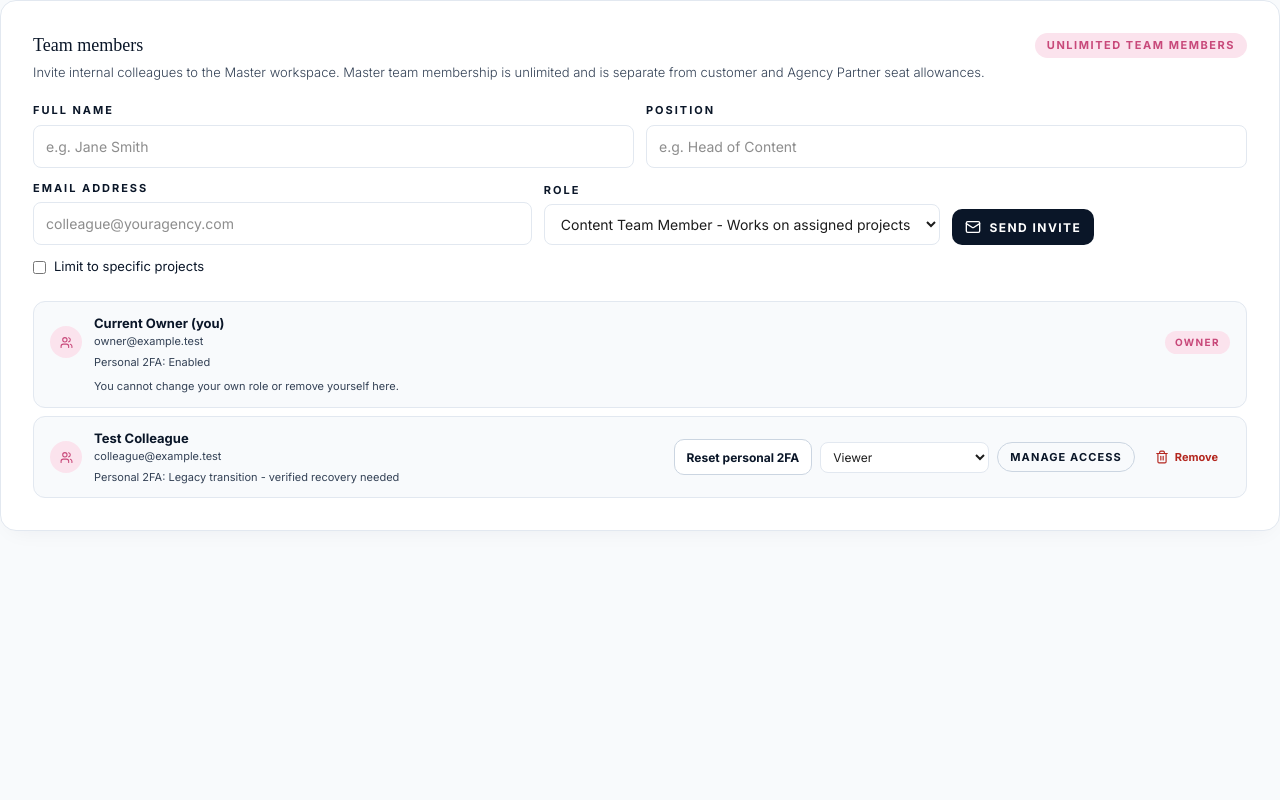
Test case: TeamSection personal MFA recovery › requires both the named email and verified-identity acknowledgement before target-only reset
Click the button with aria-label "Reset two-factor for colleague@example.test" at (743, 457), box [674,439,812,475]
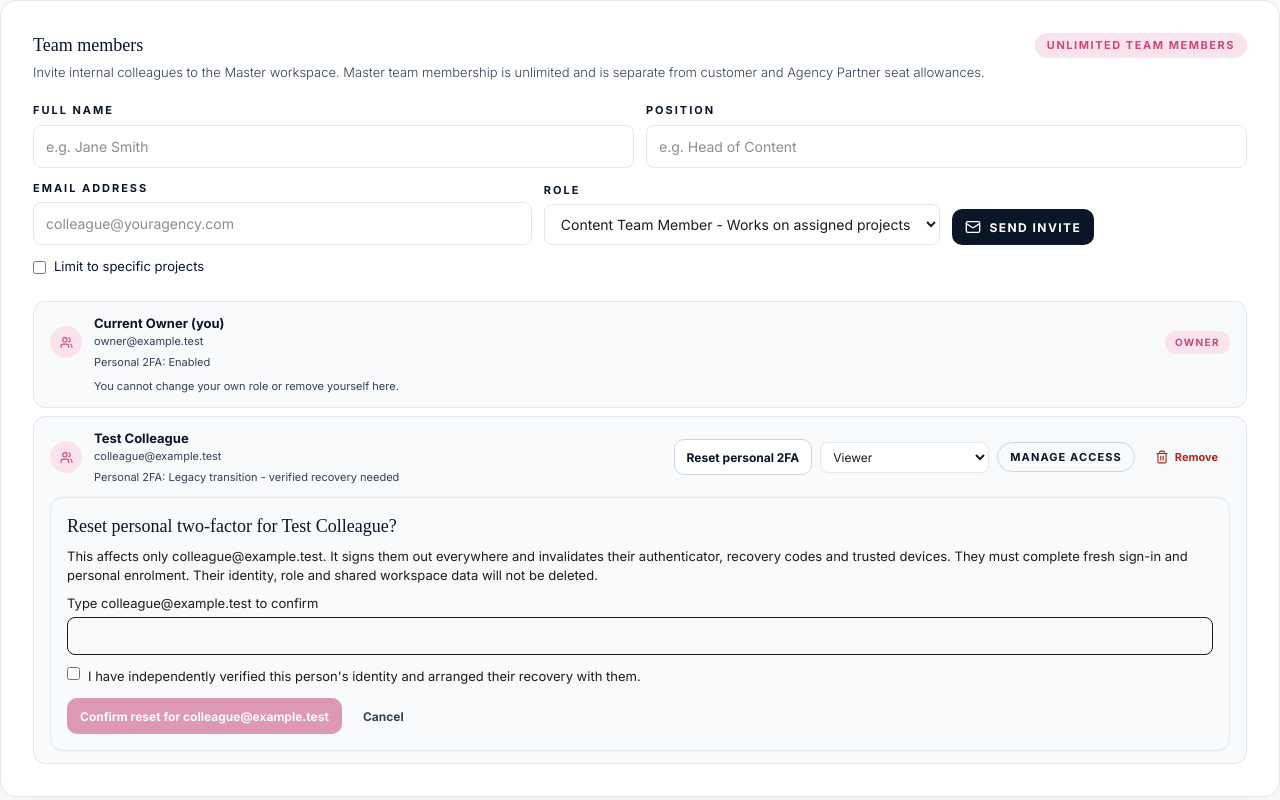
Result: the button "Confirm reset for colleague@example.test" is disabled at [67,698,342,734]
Type "owner@example.test" into the field labelled "Type colleague@example.test to confirm" at (640, 636), box [67,617,1213,655]
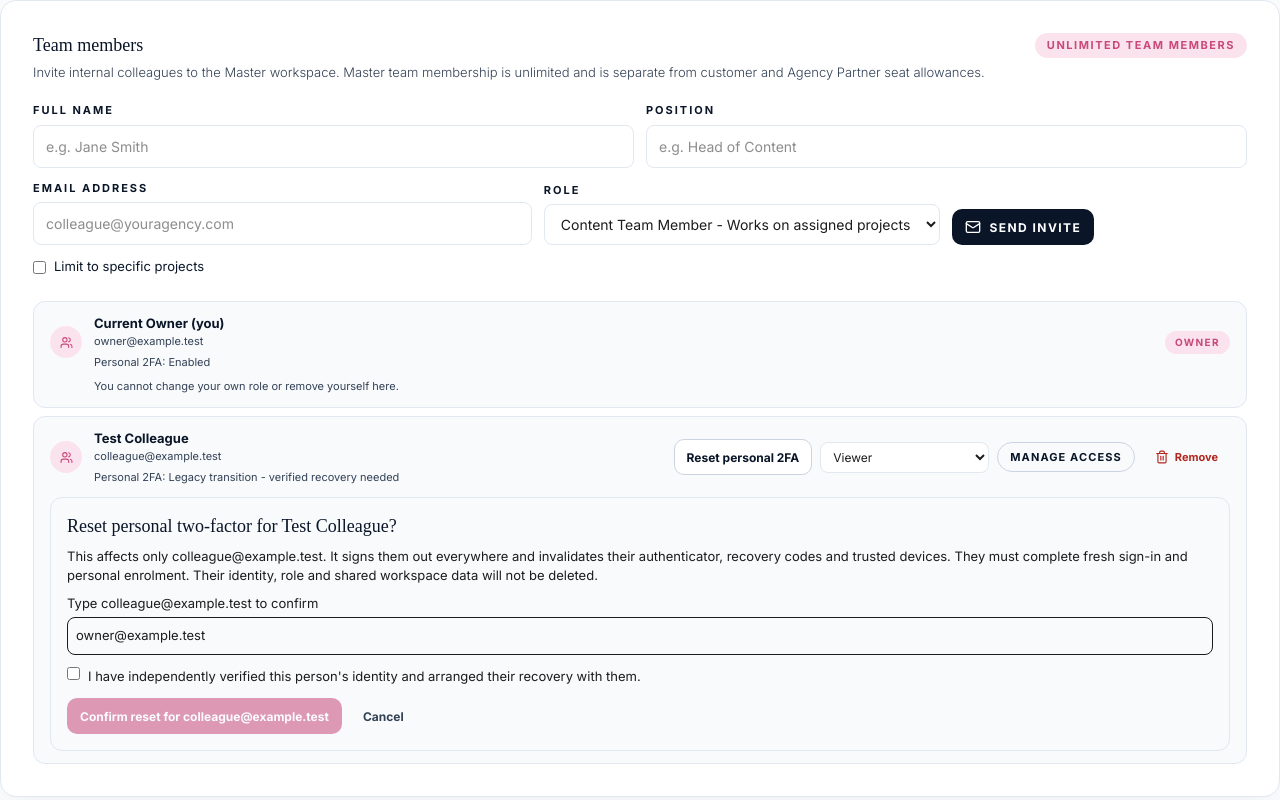
Click the checkbox labelled "independently verified this person's identity" at (74, 673), box [67,667,80,680]
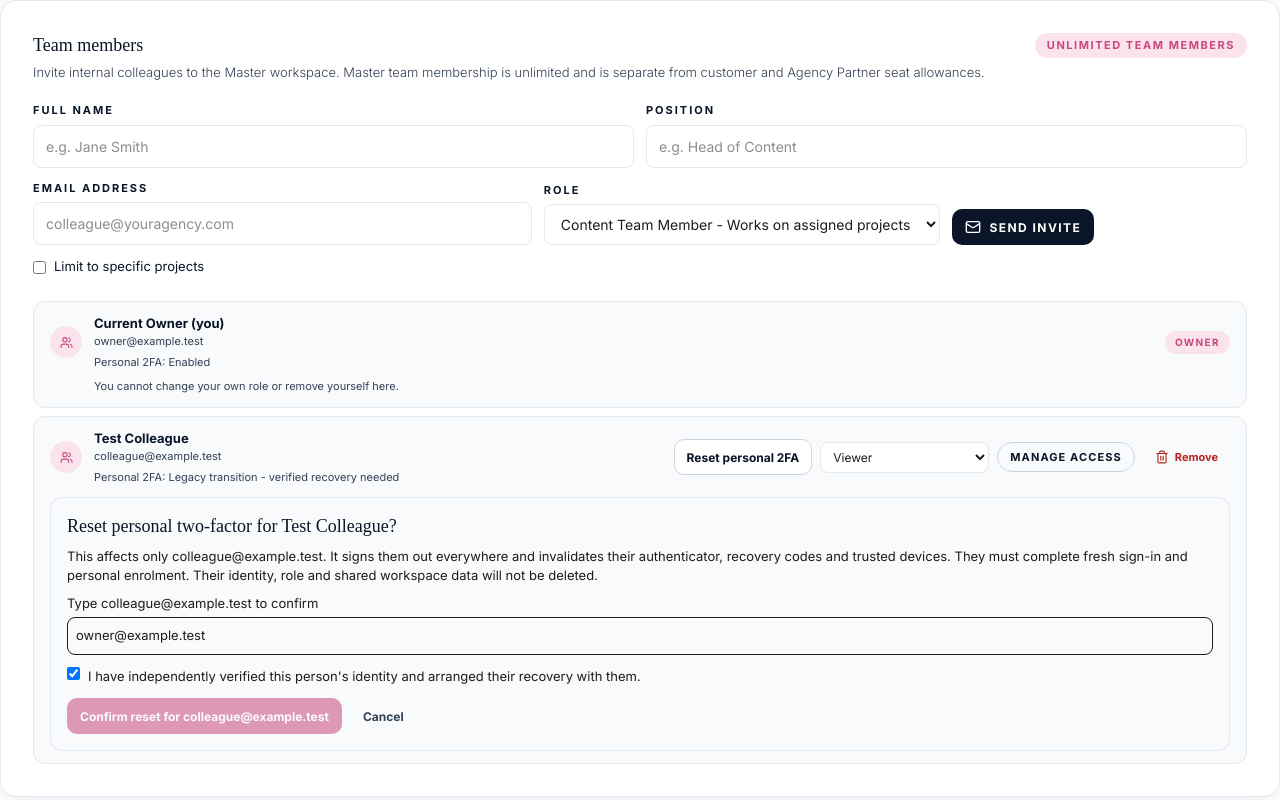
Result: the button "Confirm reset for colleague@example.test" is disabled at [67,698,342,734]
Replace the text in the field labelled "Type colleague@example.test to confirm" with "colleague@example.test" at (640, 636), box [67,617,1213,655]
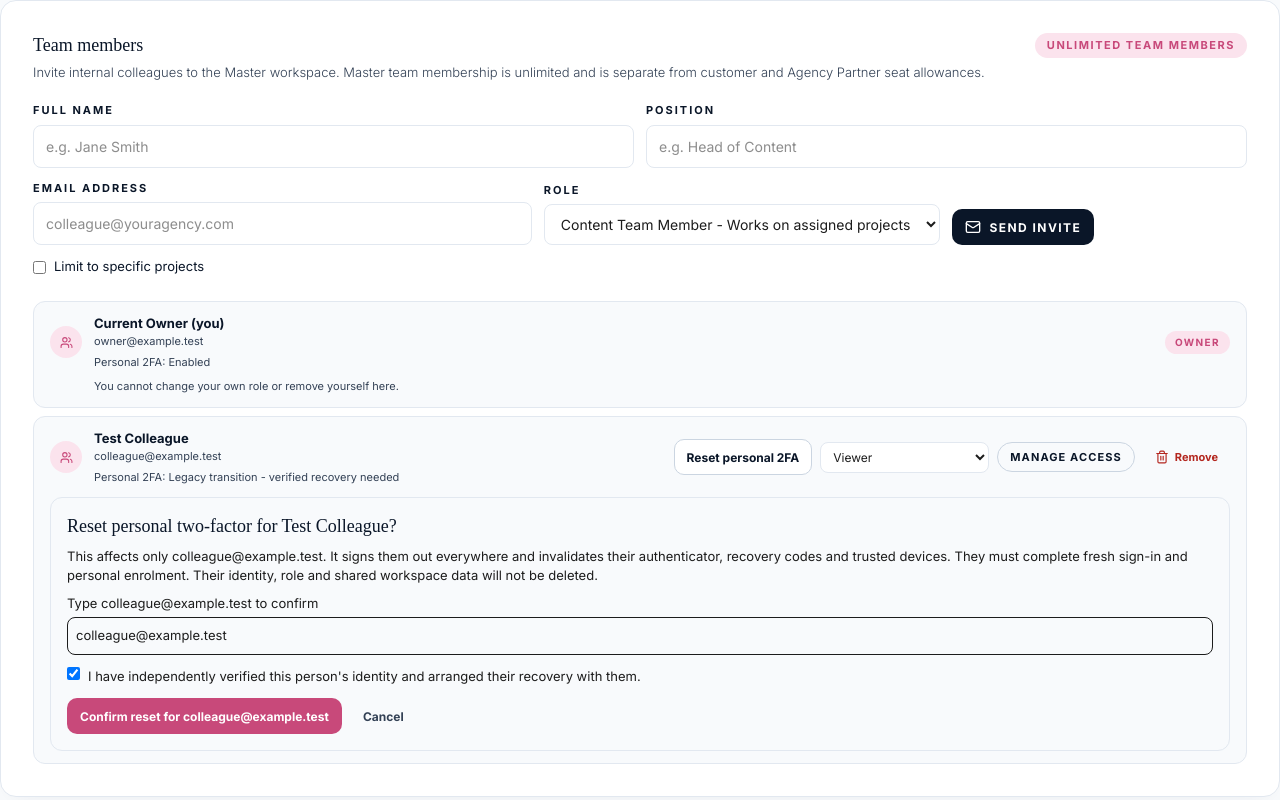
Click the button "Confirm reset for colleague@example.test" at (204, 716), box [67,698,342,734]
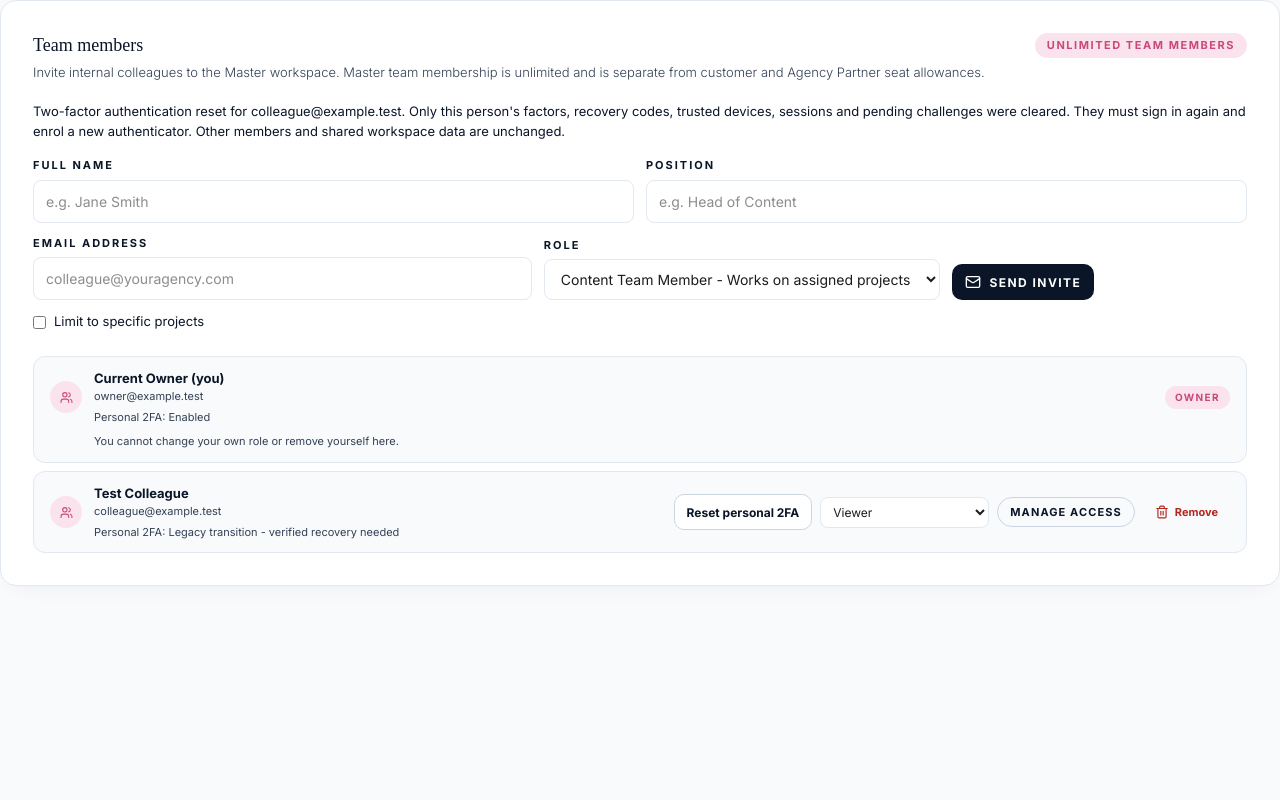
Result: the text "Only this person's factors" is shown at [33,103,1246,139]
